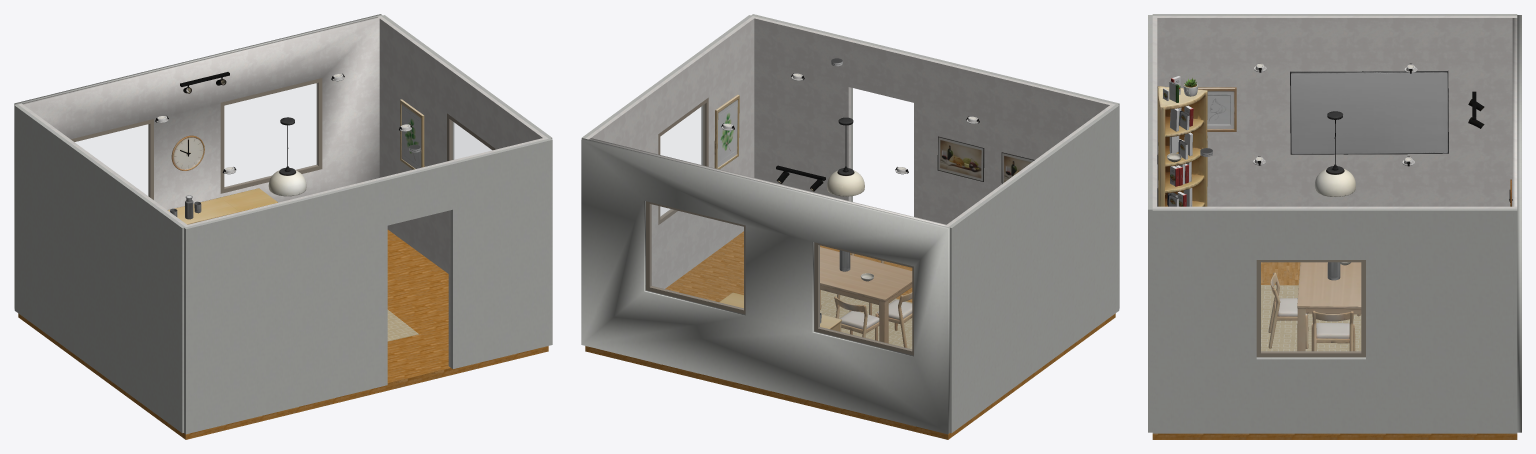
File: scene_web.glb
The picture shows the model from 3 angles, left to right: view 1: azimuth 30°, elevation 25°; view 2: azimuth 150°, elevation 25°; view 3: azimuth 270°, elevation 25°; orthographic projection. The views are drawn at different scales.
Visible parts, largest first — view 1: geometry_0.003, geometry_0.007, geometry_0, geometry_0.004, Mesh_0, glass.001, glass, frame.001, geometry_0.014, geometry_0.002, geometry_0.018, geometry_0.001 (+7 smaller); view 2: geometry_0.001, geometry_0.007, geometry_0.002, geometry_0.004, glass.001, glass, Mesh_0, geometry_0.008, glass.002, geometry_0.020, frame.001, frame (+12 smaller); view 3: geometry_0.005, geometry_0.006, geometry_0.015, glass.002, geometry_0.012, Mesh_0, geometry_0.008, Mesh_0.001, geometry_0.001, geometry_0.003, frame.002, geometry_0.011 (+7 smaller).
Boxes of the visible parts, bbox=[...] form: geometry_0.003: bbox=[184, 138, 552, 434]; geometry_0.007: bbox=[14, 104, 185, 433]; geometry_0: bbox=[22, 17, 379, 209]; geometry_0.004: bbox=[378, 16, 548, 273]; Mesh_0: bbox=[18, 230, 548, 439]; glass.001: bbox=[224, 83, 317, 187]; glass: bbox=[75, 124, 149, 196]; frame.001: bbox=[220, 78, 322, 193]; geometry_0.014: bbox=[167, 188, 277, 224]; geometry_0.002: bbox=[187, 138, 544, 367]; geometry_0.018: bbox=[400, 99, 424, 169]; geometry_0.001: bbox=[14, 14, 382, 308]; geometry_0.001: bbox=[581, 138, 949, 434]; geometry_0.007: bbox=[948, 104, 1119, 433]; geometry_0.002: bbox=[754, 17, 1111, 224]; geometry_0.004: bbox=[585, 16, 755, 288]; glass.001: bbox=[650, 204, 743, 308]; glass: bbox=[819, 245, 911, 349]; Mesh_0: bbox=[585, 231, 1115, 439]; geometry_0.008: bbox=[820, 247, 912, 343]; glass.002: bbox=[660, 105, 704, 216]; geometry_0.020: bbox=[937, 136, 984, 181]; frame.001: bbox=[646, 201, 745, 314]; frame: bbox=[814, 242, 913, 355]; geometry_0.005: bbox=[1152, 208, 1517, 433]; geometry_0.006: bbox=[1152, 16, 1517, 206]; geometry_0.015: bbox=[1290, 71, 1448, 154]; glass.002: bbox=[1261, 262, 1360, 351]; geometry_0.012: bbox=[1157, 86, 1207, 206]; Mesh_0: bbox=[1152, 262, 1517, 439]; geometry_0.008: bbox=[1297, 262, 1361, 351]; Mesh_0.001: bbox=[1261, 285, 1361, 351]; geometry_0.001: bbox=[1517, 15, 1521, 432]; geometry_0.003: bbox=[1148, 15, 1152, 432]; frame.002: bbox=[1256, 260, 1365, 357]; geometry_0.011: bbox=[1311, 310, 1355, 351].
Bounding box in the file's own units: 5.1 × 2.8 × 4.1.
31 materials, 29 textured.
